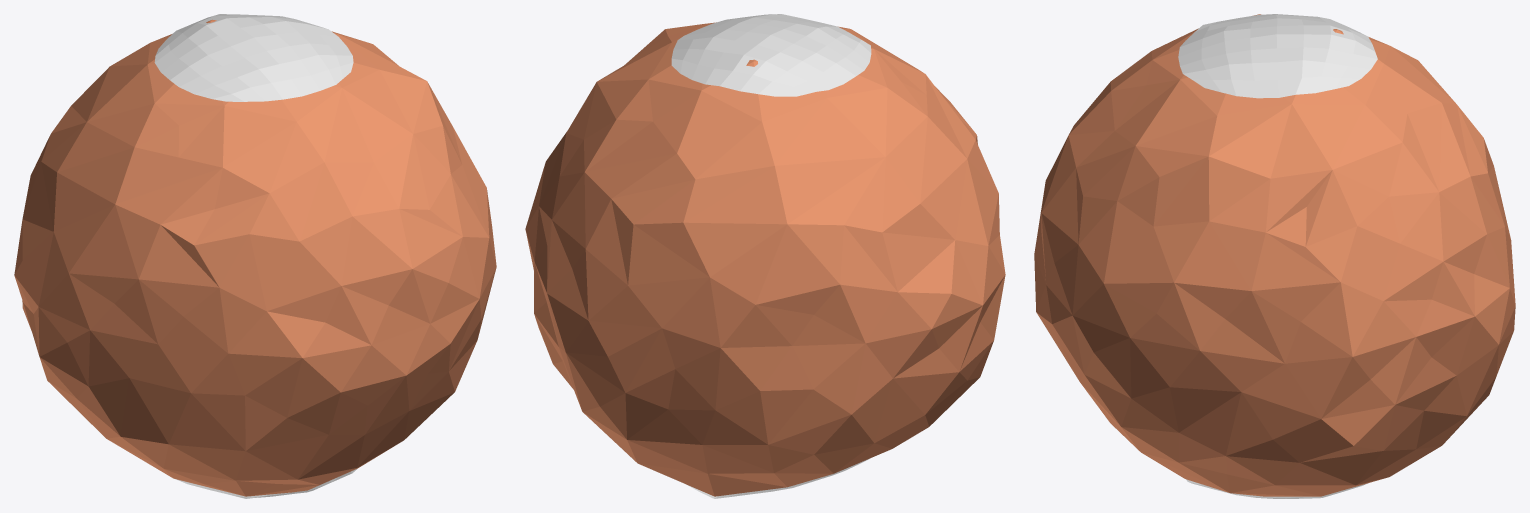
Rendered from low poly planet 2.fbx.
3 views of the same model, side by side, from view 1: azimuth 30°, elevation 25°; view 2: azimuth 150°, elevation 25°; view 3: azimuth 270°, elevation 25° (orthographic).
Parts seen in each view (by area): view 1: Icosphere, Plane; view 2: Icosphere, Plane; view 3: Icosphere, Plane.
Part boxes in pixels (left/top/right/bottom): Icosphere: left=14, top=19, right=496, bottom=496; Plane: left=154, top=14, right=353, bottom=101; Icosphere: left=525, top=22, right=1005, bottom=496; Plane: left=671, top=14, right=871, bottom=96; Icosphere: left=1034, top=14, right=1515, bottom=496; Plane: left=1178, top=14, right=1377, bottom=98.
Size of the model in its own units: 205 by 203 by 200.
